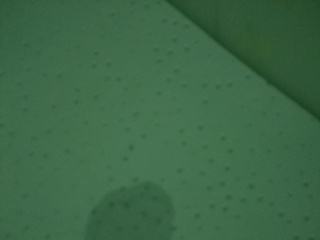Water_detected: (99, 191, 161, 240)
